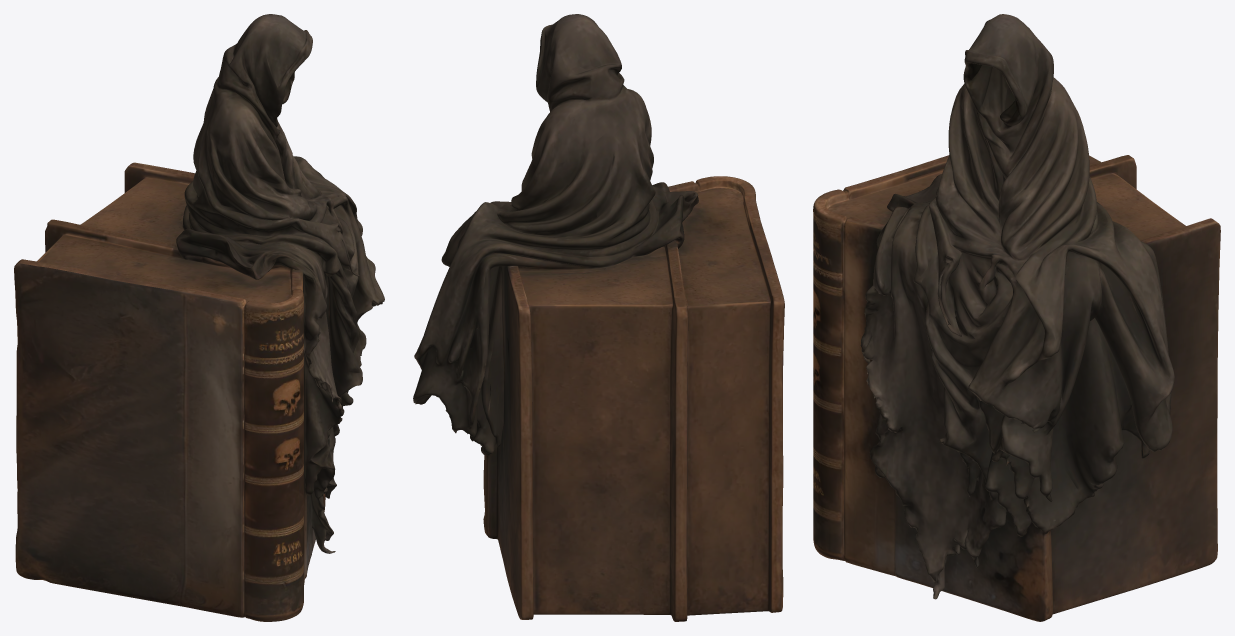
Rendered from hero-model.glb.
The picture shows the model from 3 angles, left to right: view 1: azimuth 30°, elevation 25°; view 2: azimuth 150°, elevation 25°; view 3: azimuth 270°, elevation 25°; orthographic projection. The views are drawn at different scales.
Parts seen in each view (by area): view 1: material; view 2: material; view 3: material.
Boxes of the visible parts, x1,y1,x2,y2 form: material: [14, 14, 384, 621]; material: [413, 14, 784, 621]; material: [813, 14, 1220, 621].
Size of the model in its own units: 0.686 by 0.993 by 0.6469.
Materials: 1 (1 with a texture image).
